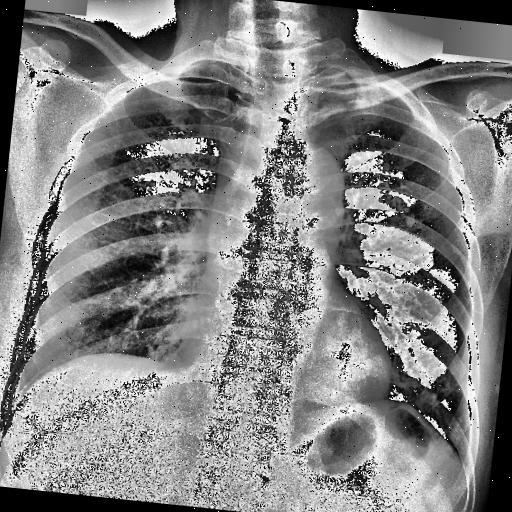0- Aortic enlargement: (272, 136, 354, 236)
11- Pleural thickening: (181, 56, 216, 74)
2- Calcification: (374, 178, 418, 226)
7- Lung Opacity: (376, 181, 424, 226)
8- Nodule-Mass: (378, 160, 393, 174)
9- Other lesion: (372, 164, 420, 228), (376, 181, 424, 226)
